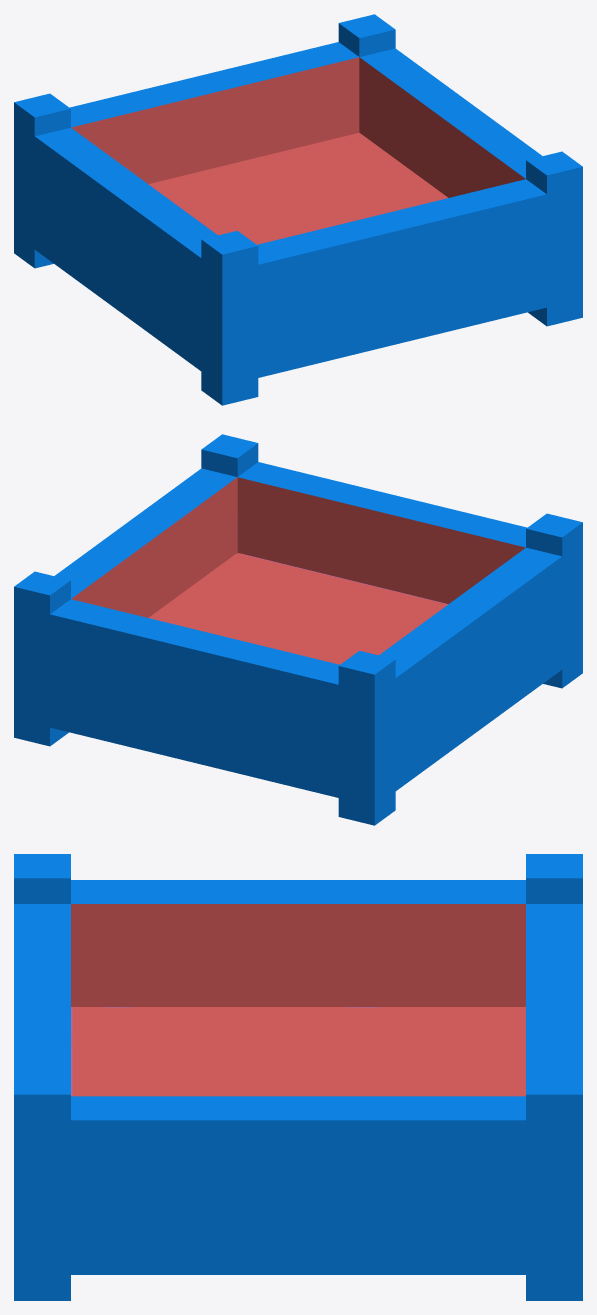
Rendered from conveyor 8.fbx.
3 views of the same model, one above another, from view 1: azimuth 30°, elevation 25°; view 2: azimuth 150°, elevation 25°; view 3: azimuth 270°, elevation 25° (orthographic). The views are drawn at different scales.
Parts seen in each view (by area): view 1: Conveyor.009; view 2: Conveyor.009; view 3: Conveyor.009.
Boxes of the visible parts, <box> form: Conveyor.009: <box>14,14,582,405</box>; Conveyor.009: <box>14,434,582,825</box>; Conveyor.009: <box>14,854,582,1300</box>.
Bounding box in the file's own units: 200 × 80 × 200.
1 material, 1 textured.
